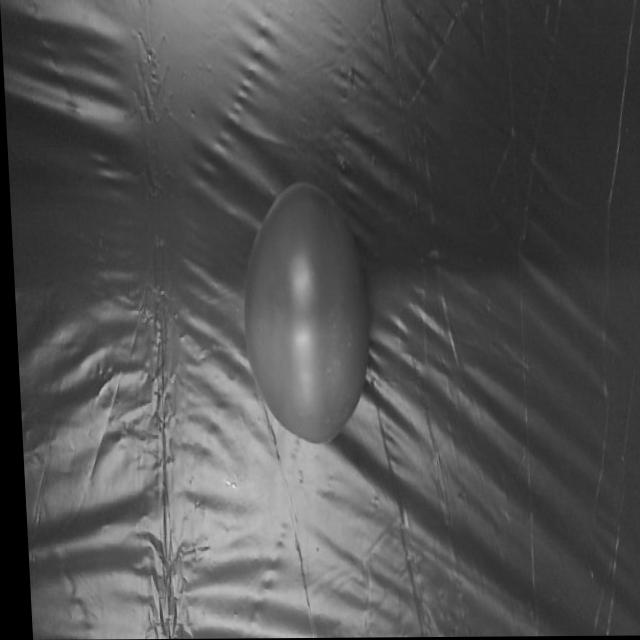kirmizi: (215, 160, 389, 454)
